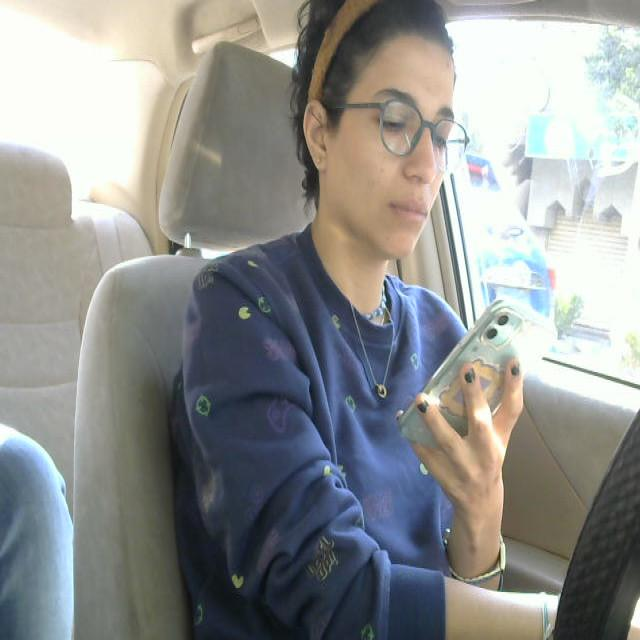mobile use: (393, 300, 551, 443)
